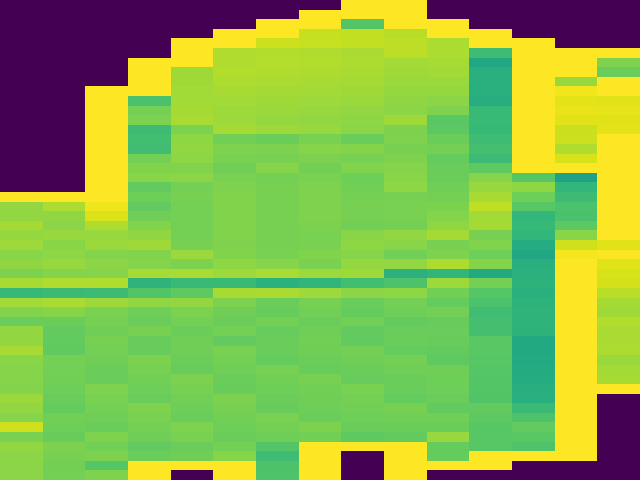car_0027: (4, 1, 640, 480)
